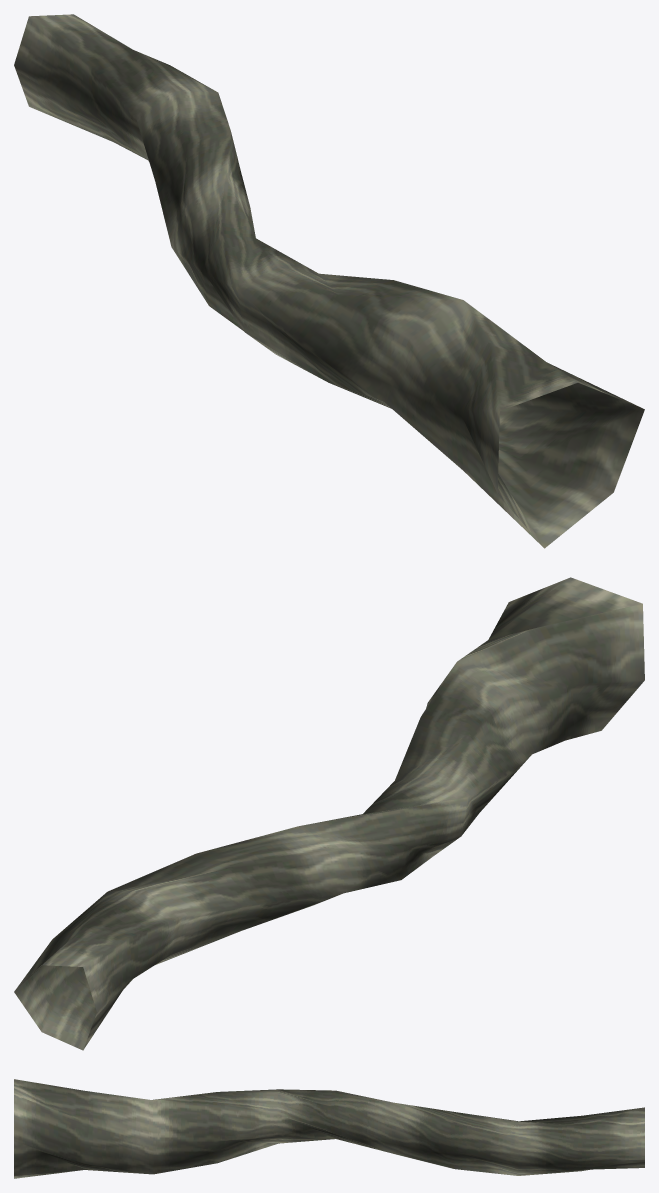
Rendered from INST_SWORDLIGHT_ROOTC.fbx.
The picture shows the model from 3 angles, top to bottom: view 1: azimuth 30°, elevation 25°; view 2: azimuth 150°, elevation 25°; view 3: azimuth 270°, elevation 25°; orthographic projection. The views are drawn at different scales.
Parts seen in each view (by area): view 1: INST_SWORDLIGHT_ROOTC; view 2: INST_SWORDLIGHT_ROOTC; view 3: INST_SWORDLIGHT_ROOTC.
Part boxes in pixels (x1,y1,x2,y2): INST_SWORDLIGHT_ROOTC: [14, 14, 644, 548]; INST_SWORDLIGHT_ROOTC: [14, 577, 644, 1050]; INST_SWORDLIGHT_ROOTC: [14, 1079, 644, 1178].
Size of the model in its own units: 12390 by 9788 by 60507.
Materials: 1 (1 with a texture image).
